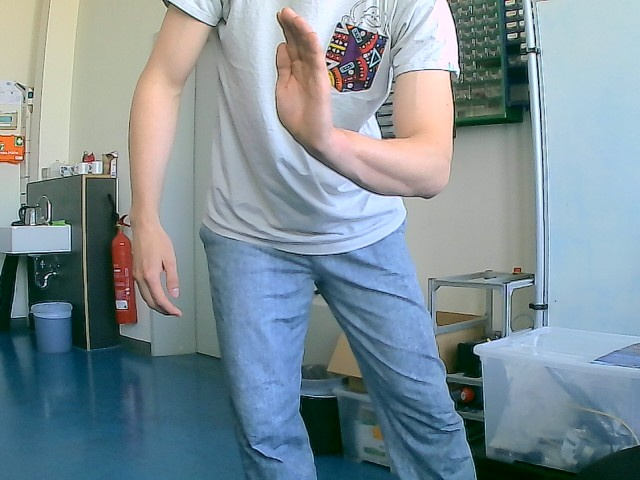no_gesture: (129, 222, 183, 318)
stop: (273, 6, 335, 152)
